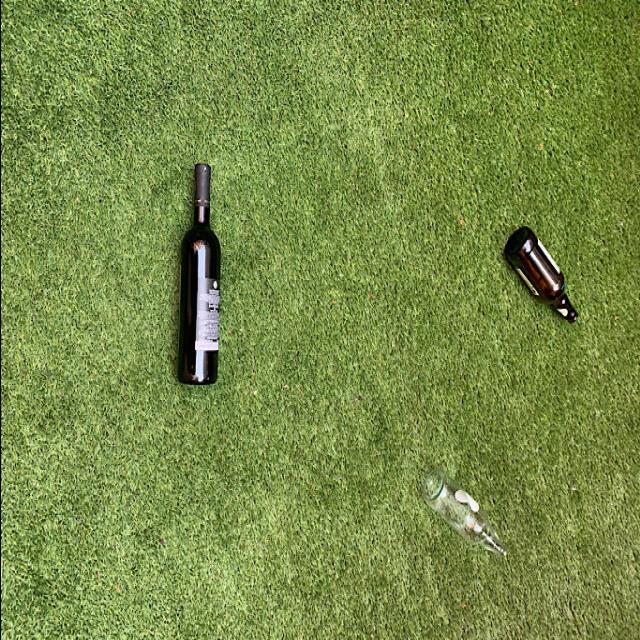PET: (138, 119, 262, 452), (365, 448, 523, 582), (478, 214, 581, 356)
